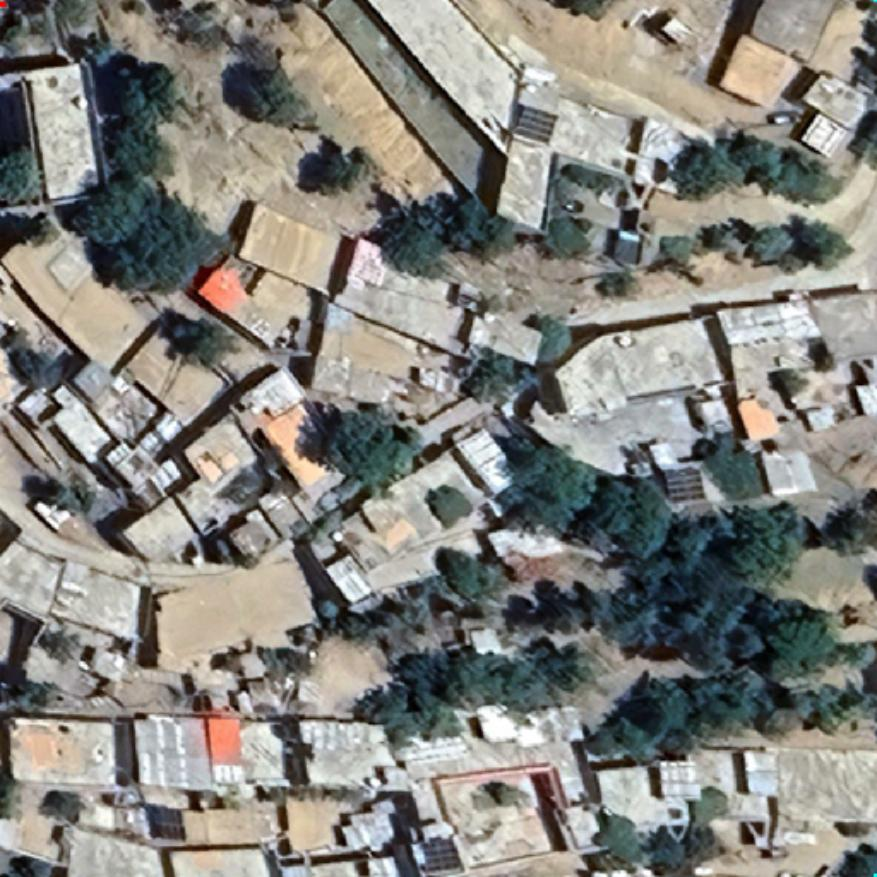Solarpanel: (418, 832, 466, 876), (512, 102, 560, 144), (661, 463, 709, 505), (144, 801, 190, 843)
